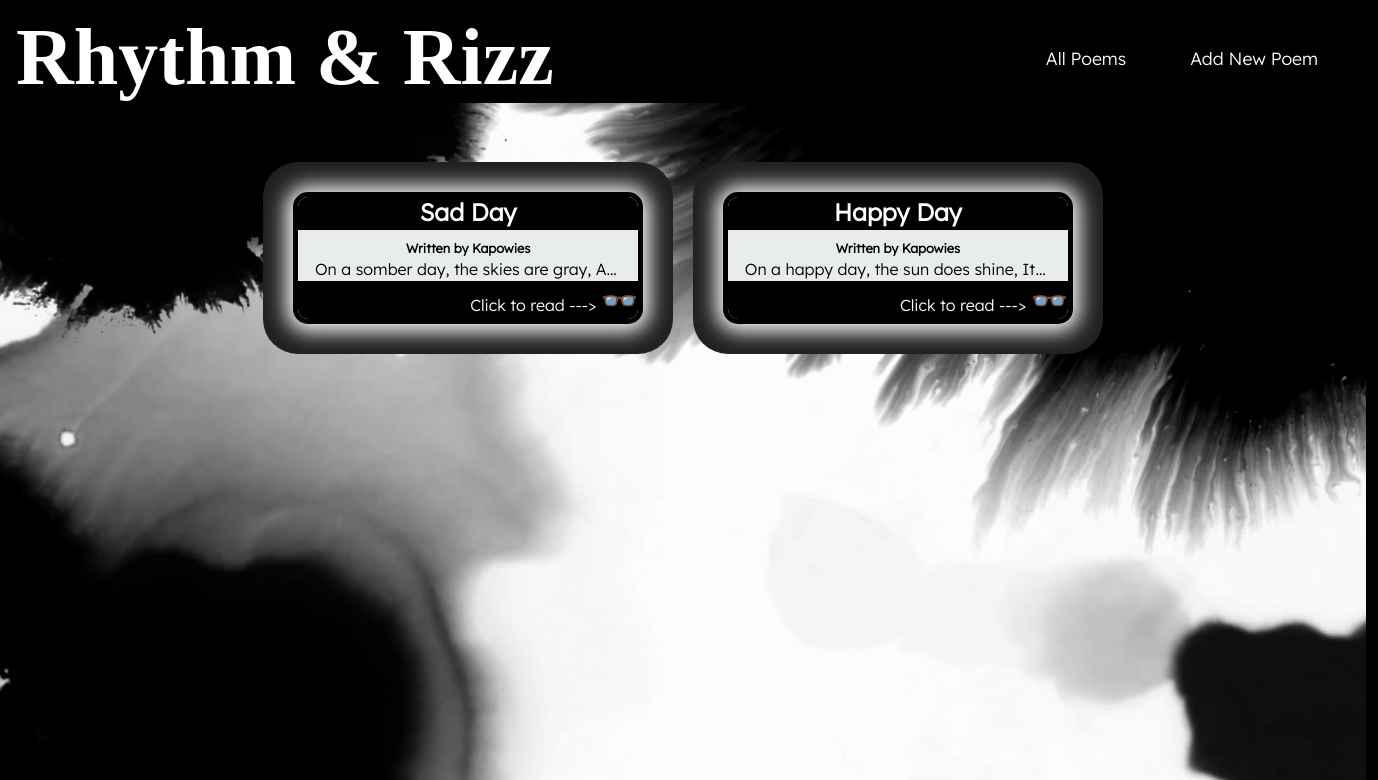
New Poem Form › Should show form when you select Form button
Click the link to "/form".
click(1254, 58)  # box [1174,31,1334,85]
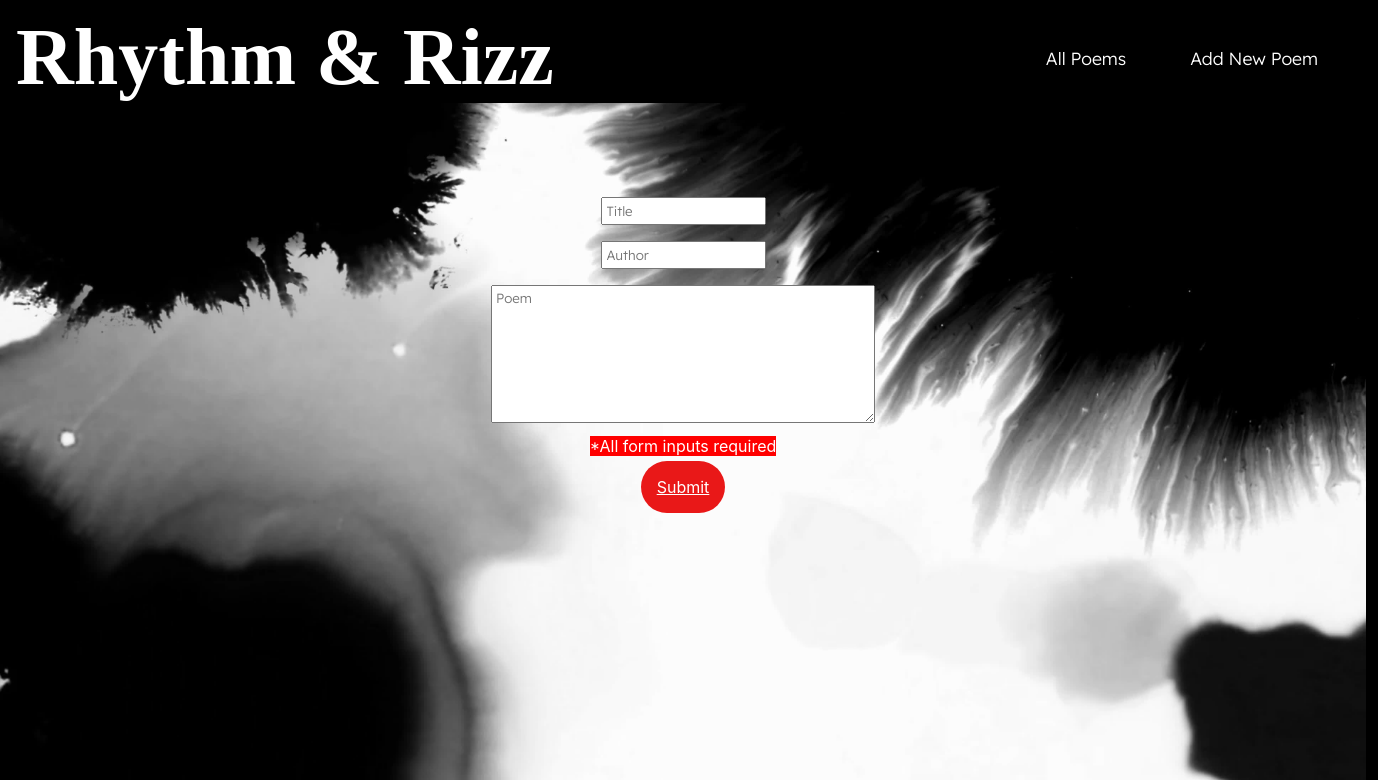
Type "Testing Nightmare" into the field with placeholder "Title".
click(684, 211); type("Testing Nightmare")  # box [601,197,766,225]
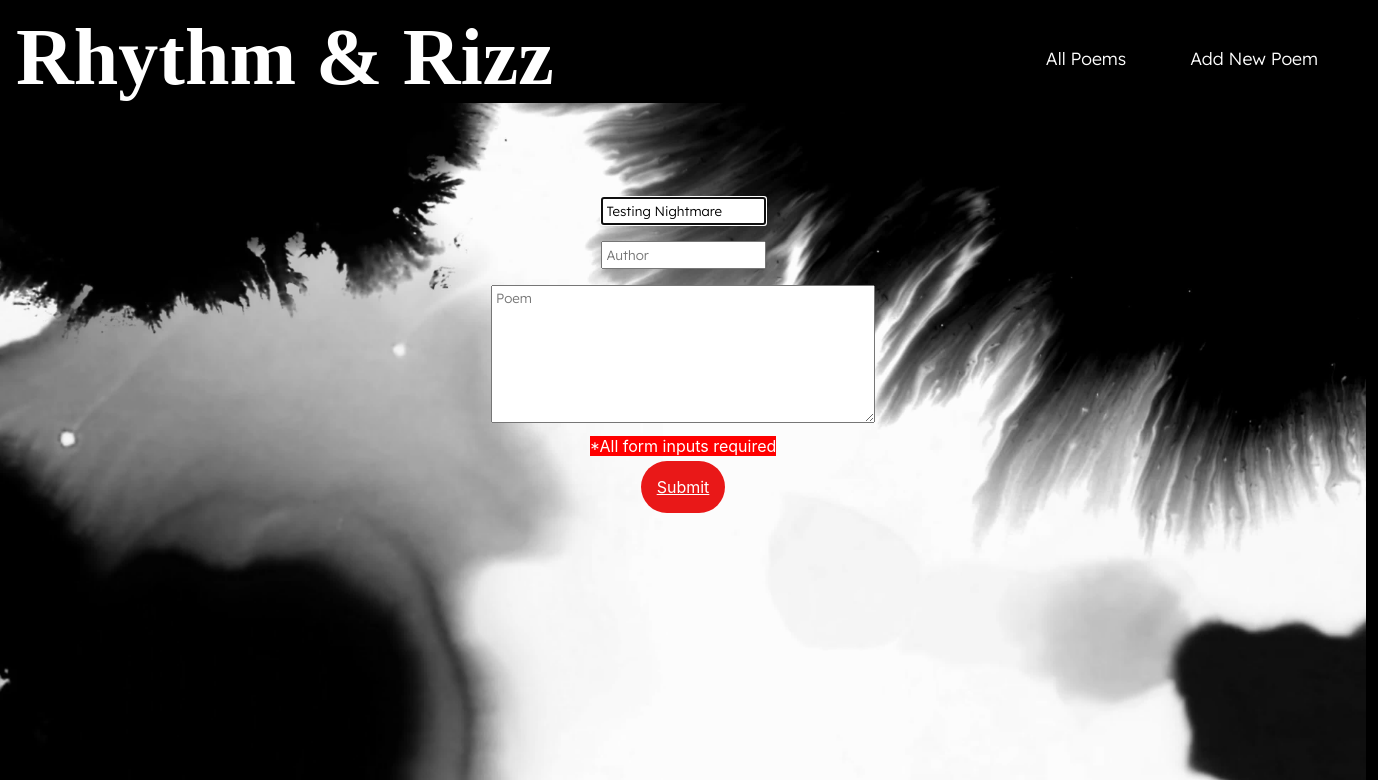
Type "Cypress Student" into the field with placeholder "Author".
click(684, 255); type("Cypress Student")  # box [601,241,766,269]
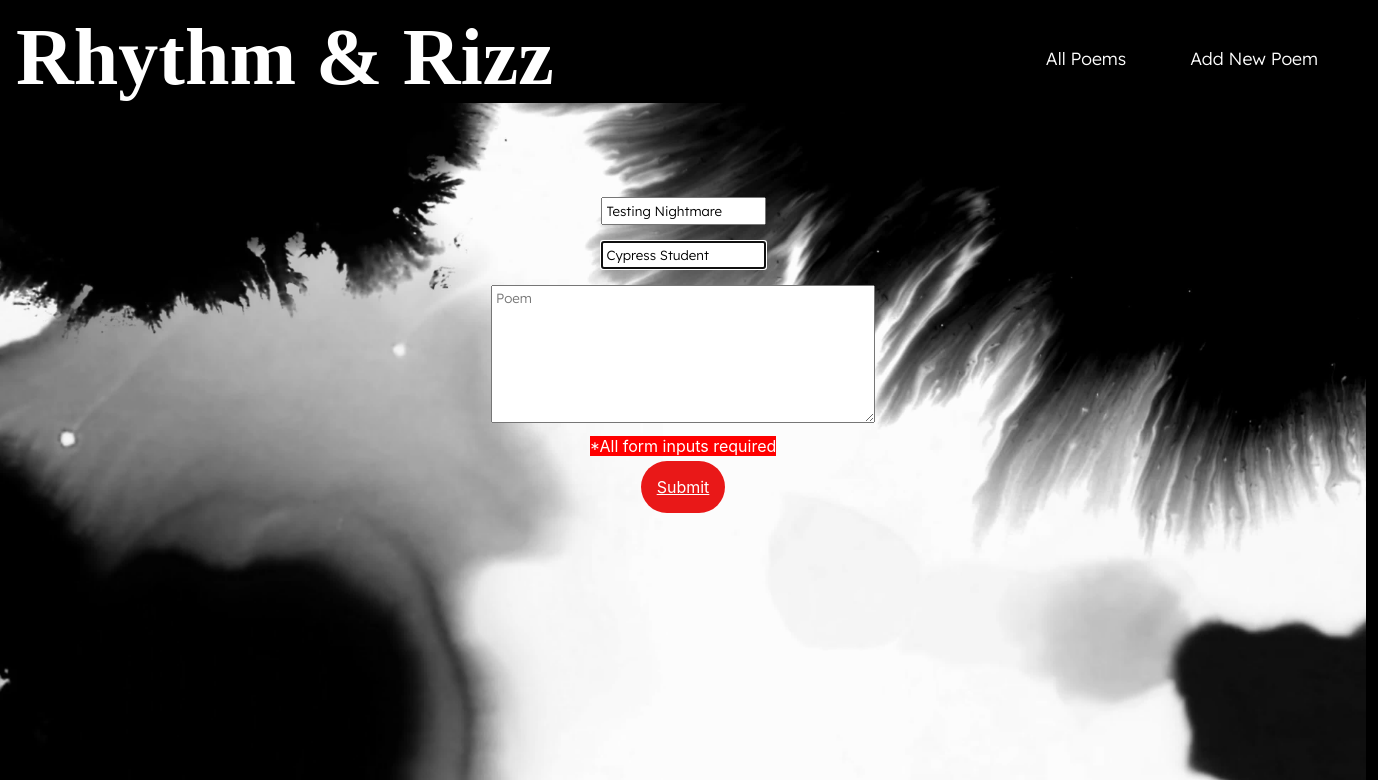
Type "Poem Poem oh so fun, poem poem my work here is done" into the text box with class "form-input" showing "Poem".
click(683, 354); type("Poem Poem oh so fun, poem poem my work here is done")  # box [491,285,875,423]
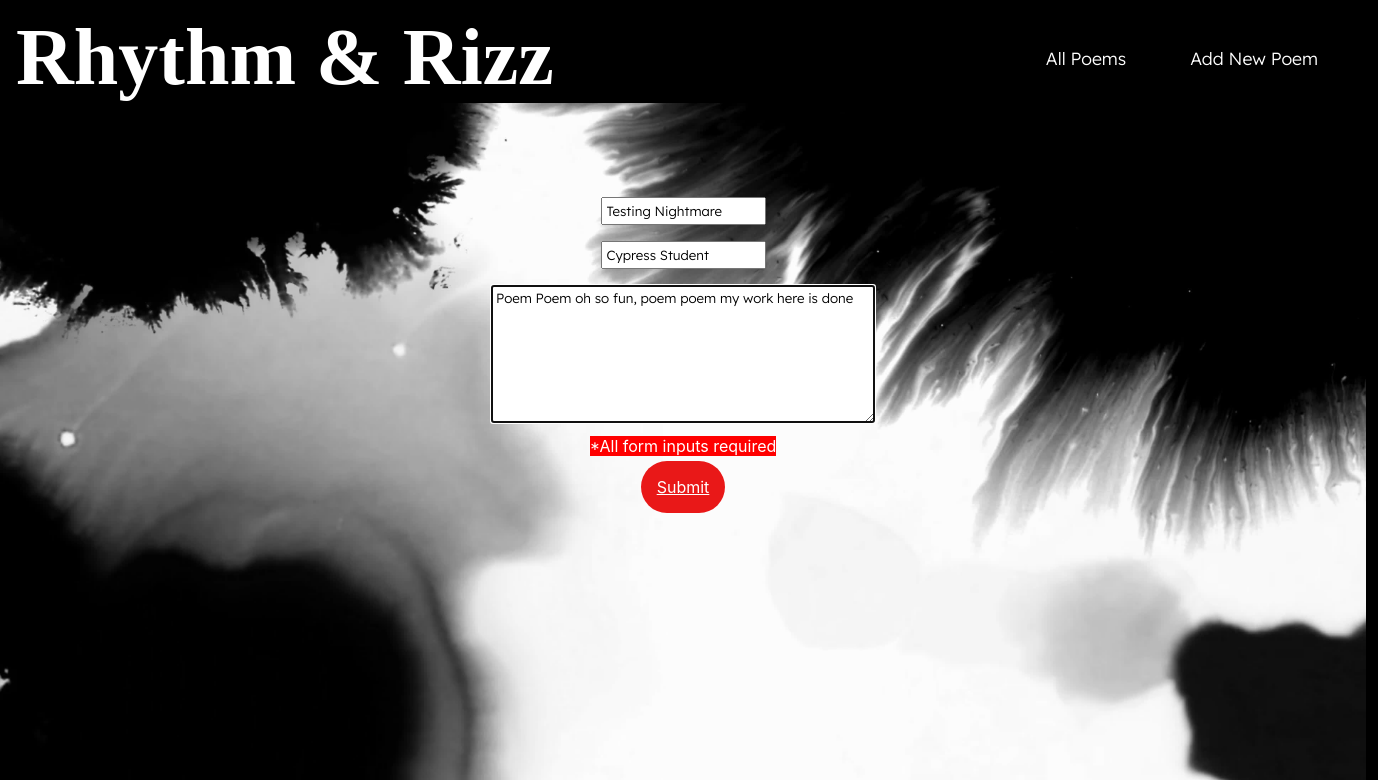
Click the link with class "form-button".
click(684, 487)  # box [641,461,726,513]
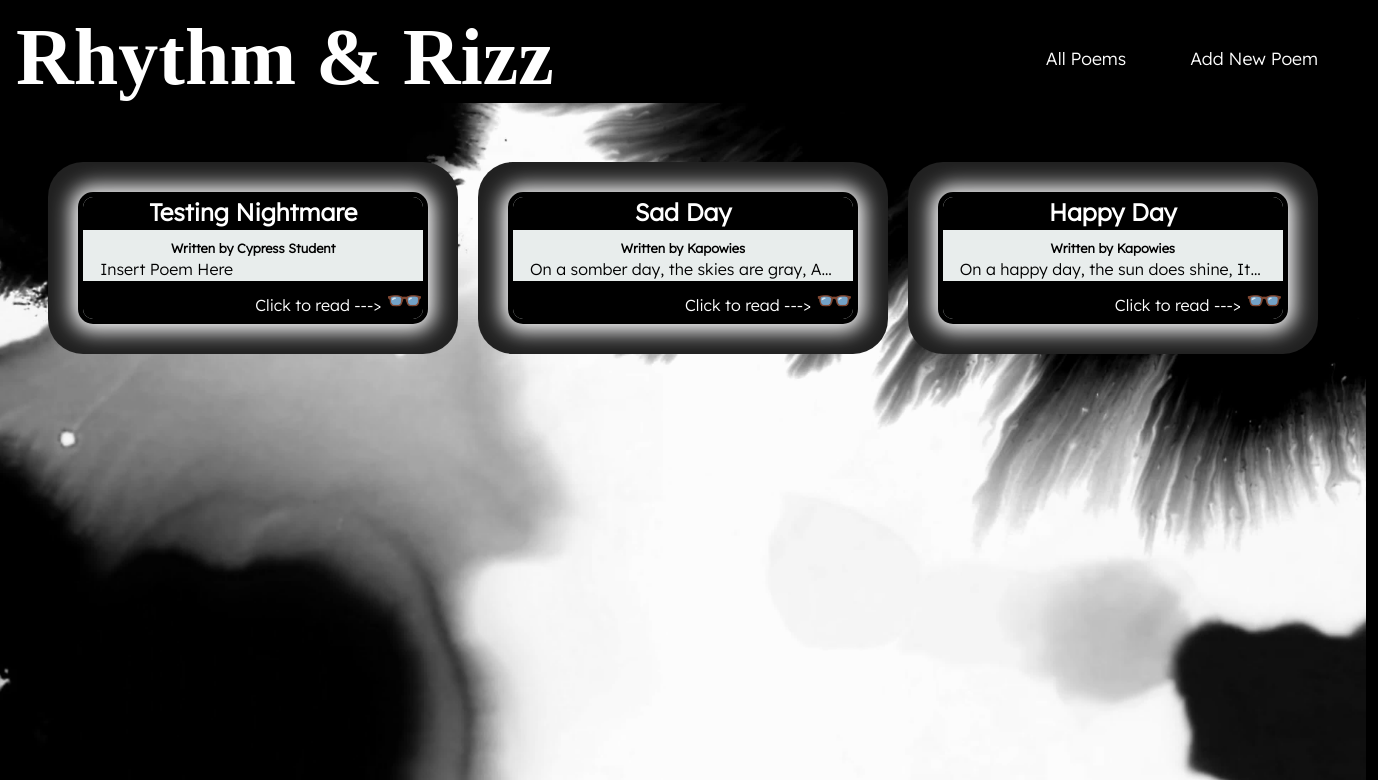
Check: the element that starts with "Testing Nightmare" is shown, box [78,192,428,325]
Check: the heading "Testing Nightmare" is shown, box [83,197,423,230]
Check: the heading "Written by Cypress Student" is shown, box [171,240,335,256]
